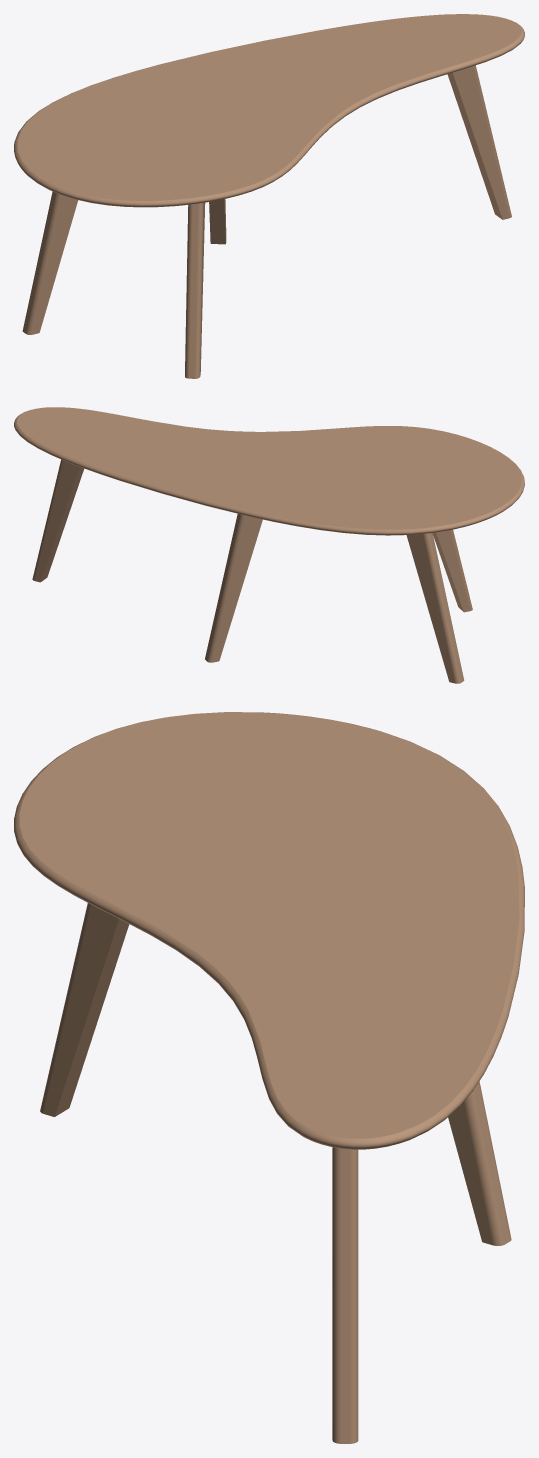
The model's file is 407_センターテーブル.glb.
The picture shows the model from 3 angles, top to bottom: view 1: azimuth 30°, elevation 25°; view 2: azimuth 150°, elevation 25°; view 3: azimuth 270°, elevation 25°; orthographic projection. The views are drawn at different scales.
Parts seen in each view (by area): view 1: 407_センターテーブル; view 2: 407_センターテーブル; view 3: 407_センターテーブル.
Boxes of the visible parts, <box> form: 407_センターテーブル: <box>14,14,524,378</box>; 407_センターテーブル: <box>14,407,524,683</box>; 407_センターテーブル: <box>14,712,524,1443</box>.
Size of the model in its own units: 1.18 by 0.4 by 0.5897.
